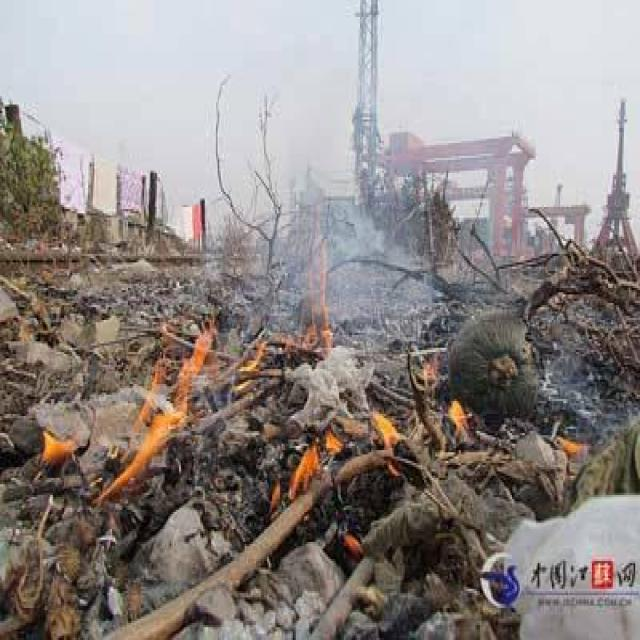fire: (91, 320, 216, 499), (296, 206, 340, 363), (270, 425, 349, 508), (362, 398, 409, 468), (229, 327, 265, 393), (32, 426, 82, 464), (443, 387, 475, 442), (554, 431, 592, 464), (412, 334, 436, 382), (338, 522, 366, 552)
other: (372, 111, 534, 258), (576, 548, 611, 602), (177, 188, 205, 240)
